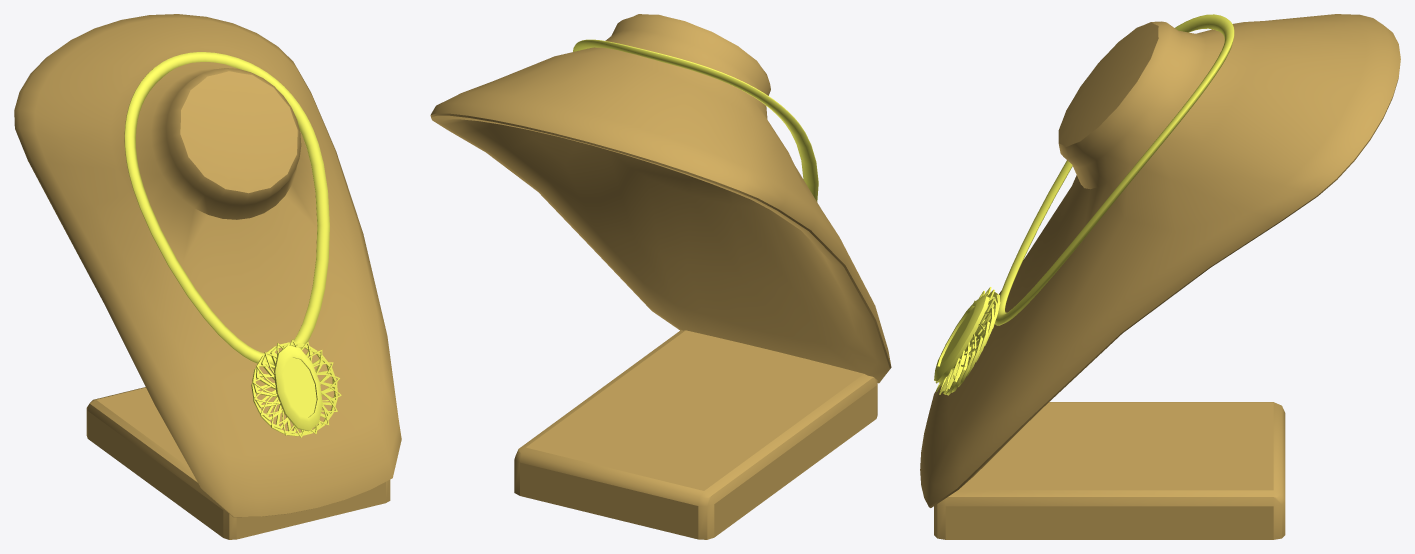
The model's file is Necklace_7.fbx.
3 views of the same model, side by side, from view 1: azimuth 30°, elevation 25°; view 2: azimuth 150°, elevation 25°; view 3: azimuth 270°, elevation 25° (orthographic). The views are drawn at different scales.
Parts seen in each view (by area): view 1: SM_Stand_Necklace_1, SM_Necklace_3, SM_Cullon_15; view 2: SM_Stand_Necklace_1, SM_Necklace_3; view 3: SM_Stand_Necklace_1, SM_Necklace_3, SM_Cullon_15.
Boxes of the visible parts, bbox=[...] form: SM_Stand_Necklace_1: bbox=[14, 14, 401, 539]; SM_Necklace_3: bbox=[124, 52, 329, 365]; SM_Cullon_15: bbox=[251, 339, 341, 437]; SM_Stand_Necklace_1: bbox=[430, 14, 891, 539]; SM_Necklace_3: bbox=[573, 39, 818, 201]; SM_Stand_Necklace_1: bbox=[920, 14, 1400, 539]; SM_Necklace_3: bbox=[994, 14, 1234, 325]; SM_Cullon_15: bbox=[934, 287, 1000, 395].
Bounding box in the file's own units: 22.51 × 29.29 × 27.78.
